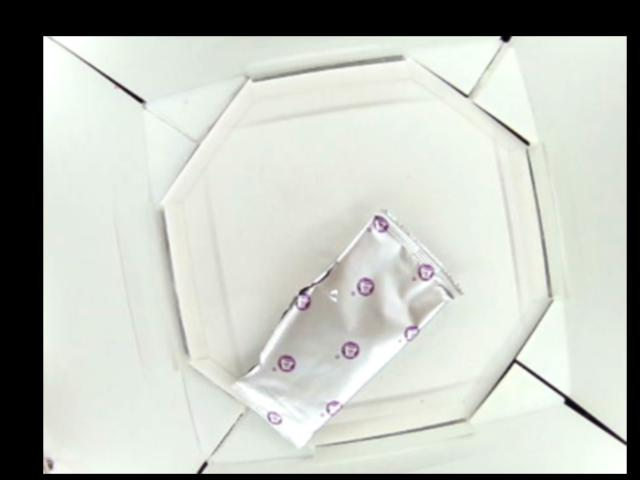Medicine: (230, 207, 462, 465)
